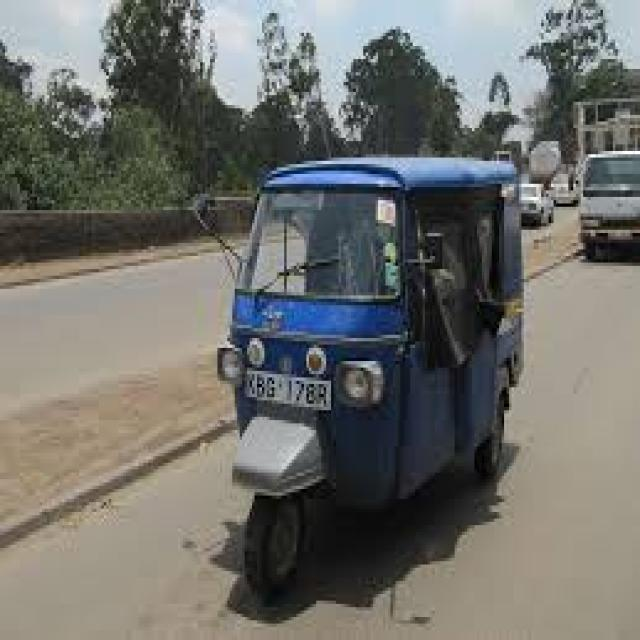tuktuk: (162, 88, 536, 624)
